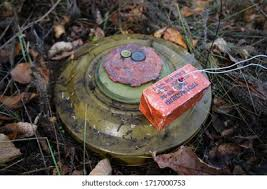car: (36, 21, 227, 159)
